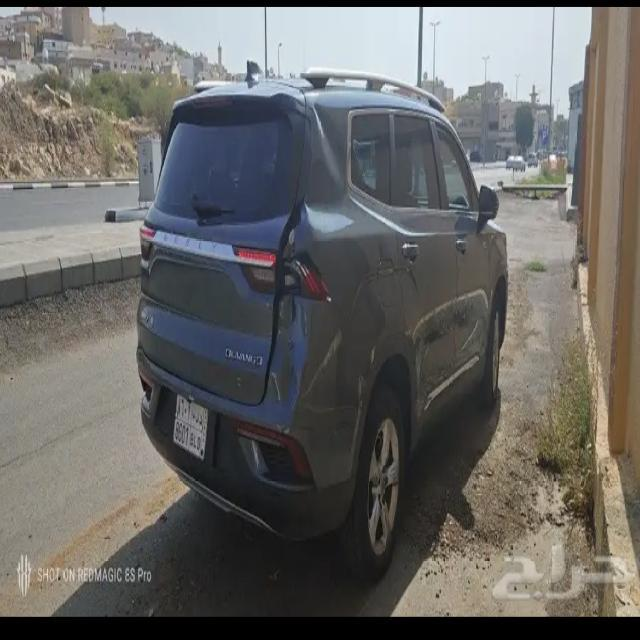license_plate: (175, 391, 208, 460)
